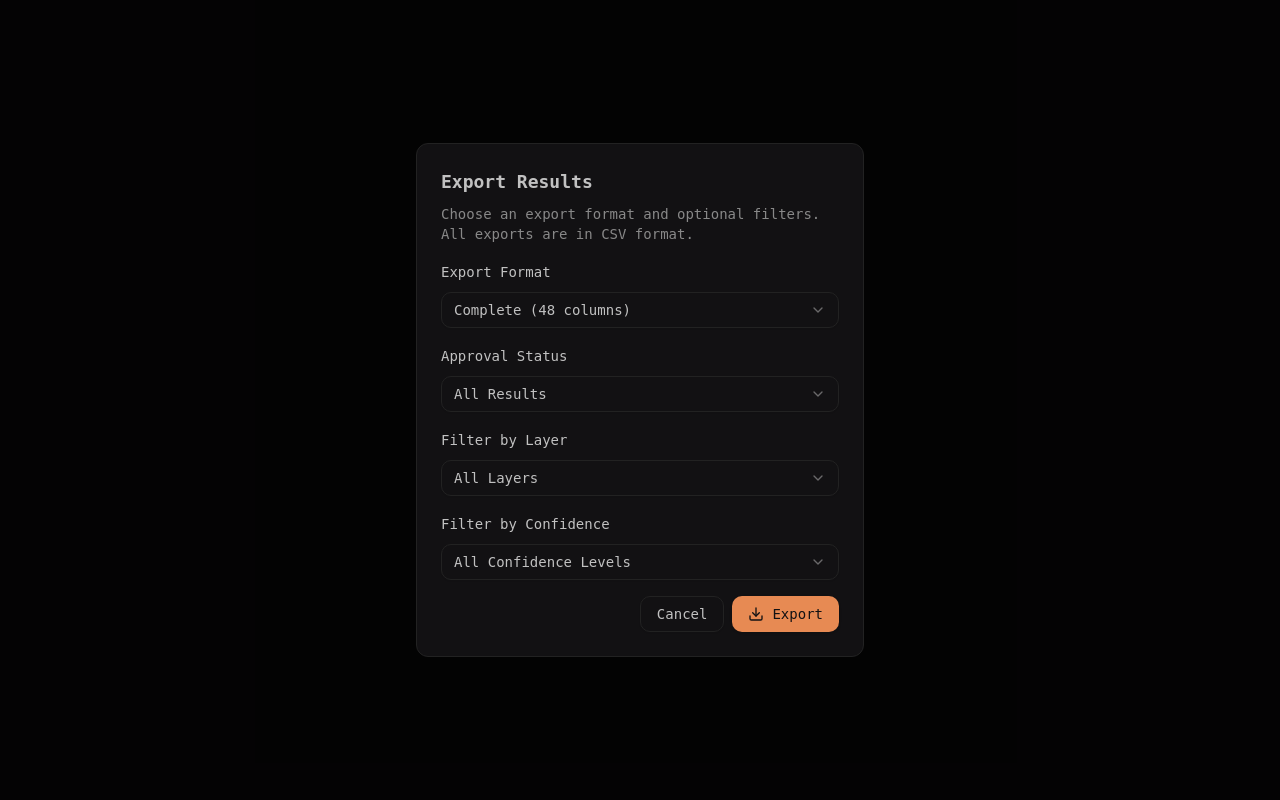
Test case: ExportDialog Component - TDD Test Suite › Error Handling › T069-18: Displays error alert when export fails
Step 1. Click the button "Export" → click(786, 614), box x1=732 y1=596 x2=839 y2=632
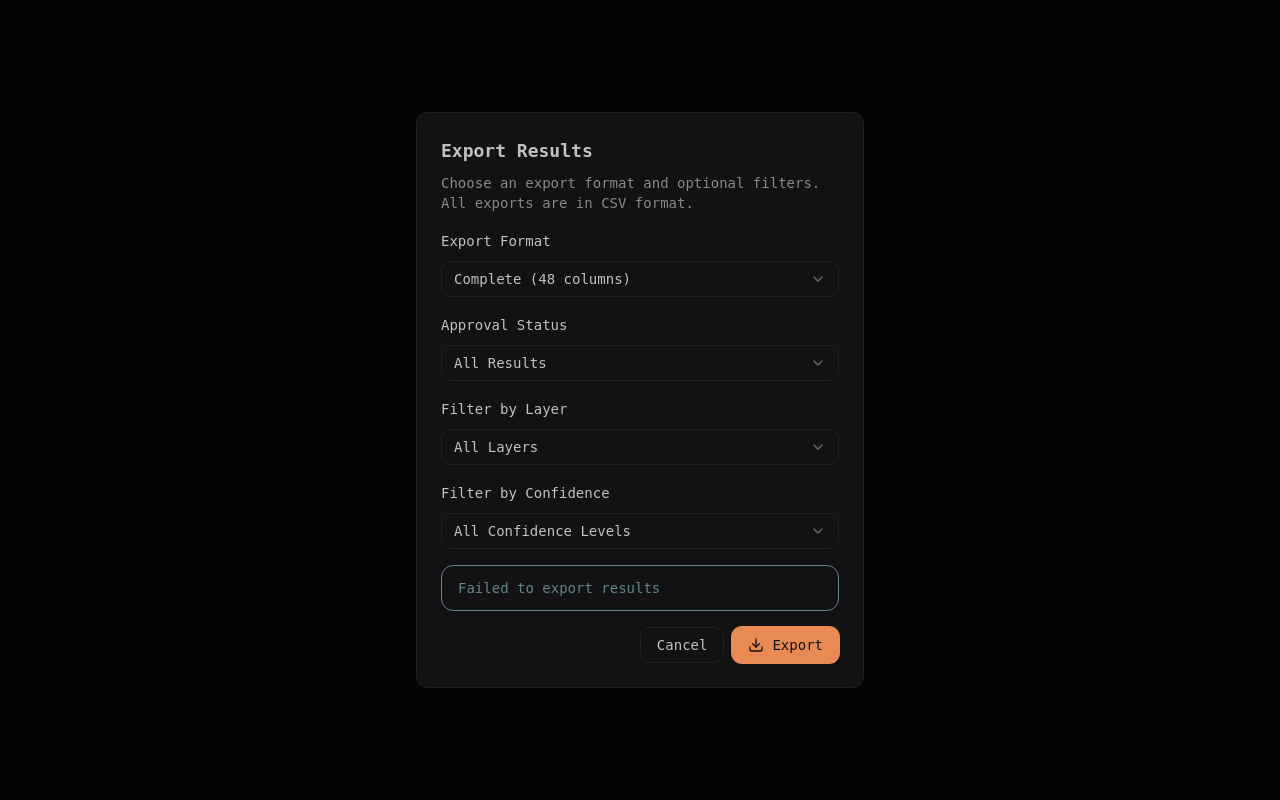
Result: the text "Failed to export results" is shown at x1=458 y1=580 x2=660 y2=596
